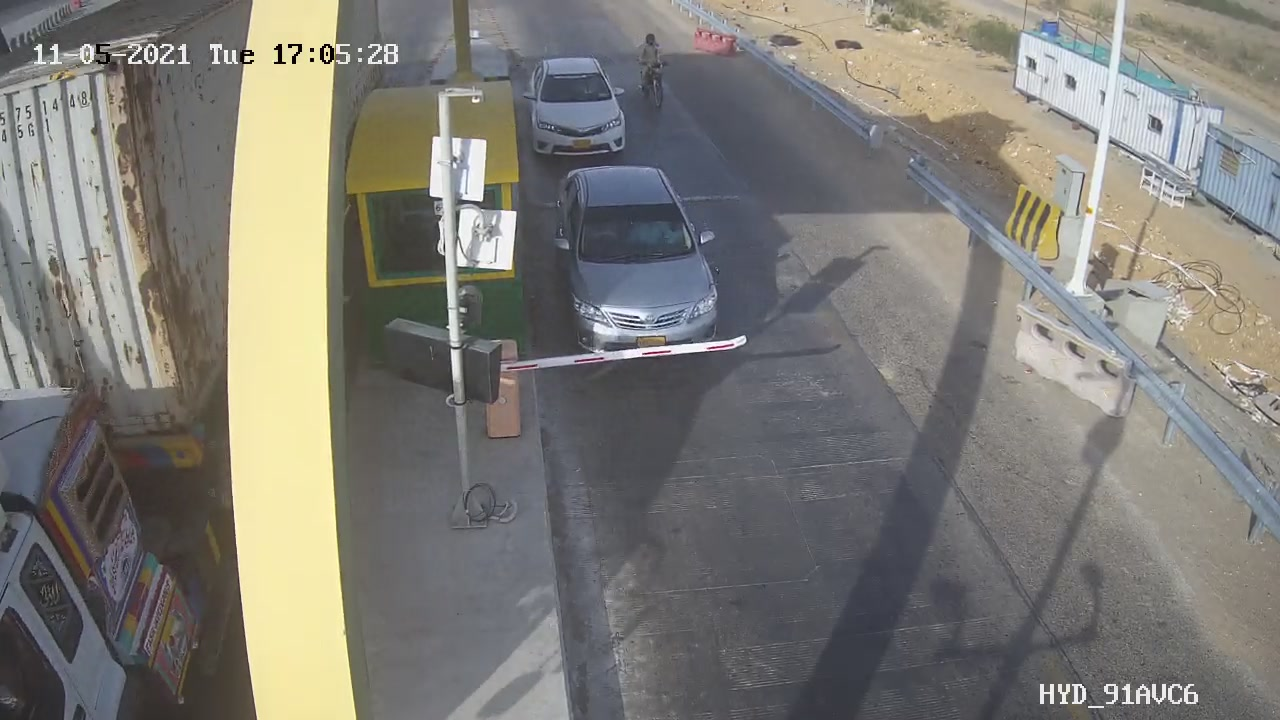F1: (534, 156, 756, 368), (516, 47, 642, 166)
